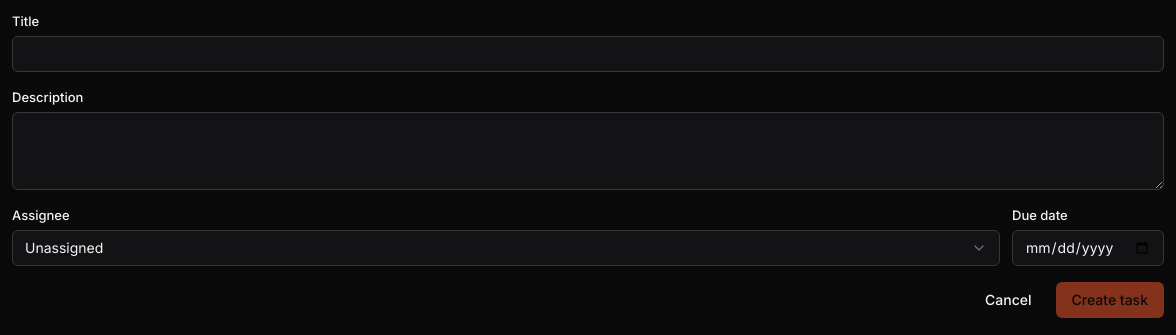
Test: TaskForm › disables submit until a title is entered
The width and height of the screenshot is (1176, 335).
Expected: the button "Create task" is disabled, [1056,282,1164,318]
Type "Write outline" into the field labelled "Title" at (588, 54), box [12,36,1164,72]
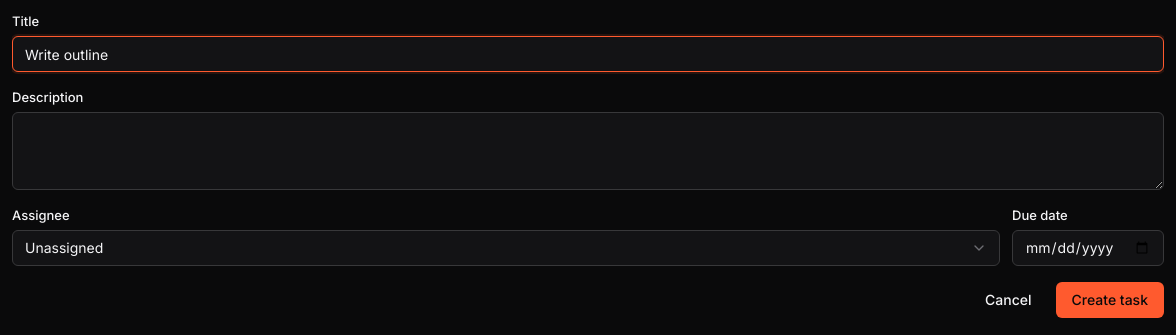
Expected: the button "Create task" is enabled, [1056,282,1164,318]
